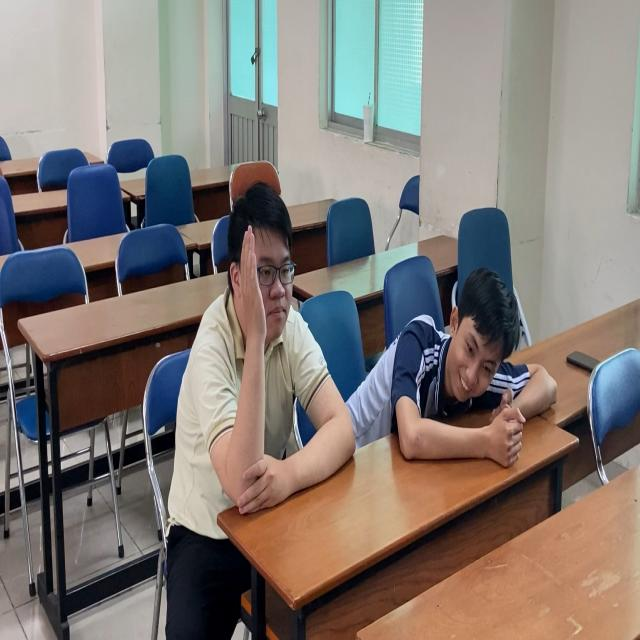raise_hand: (183, 178, 338, 523)
sleep: (366, 262, 548, 474)
